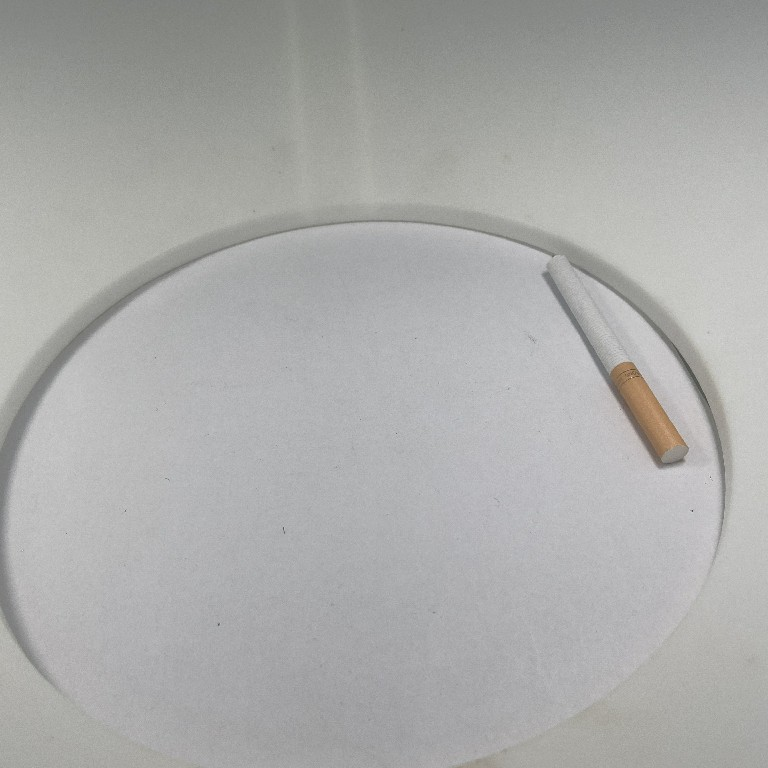cigarette: (536, 247, 696, 478)
